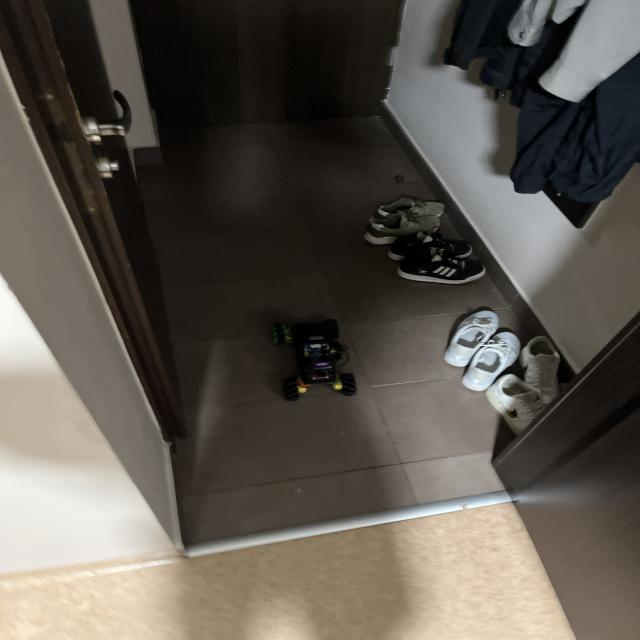robot: (272, 319, 357, 401)
